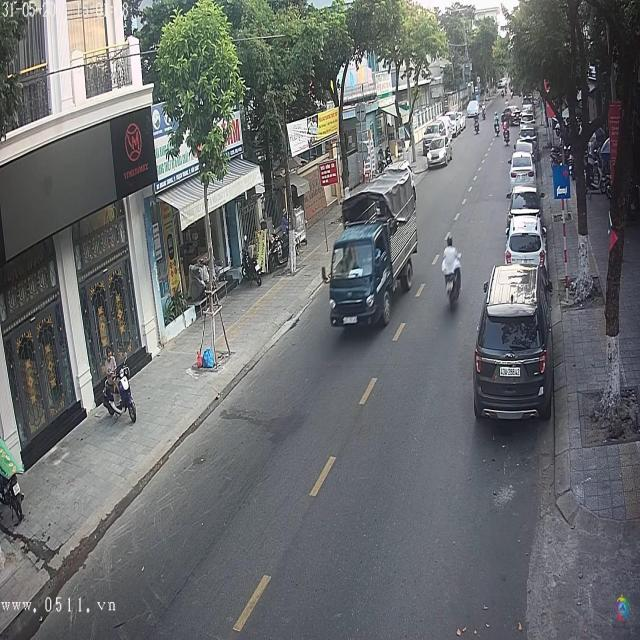car: (473, 259, 554, 420), (505, 224, 545, 268), (420, 122, 455, 166), (510, 150, 534, 180), (467, 100, 481, 118)
motorcycle: (444, 254, 464, 312), (503, 123, 510, 142)
truck: (326, 189, 417, 330)
